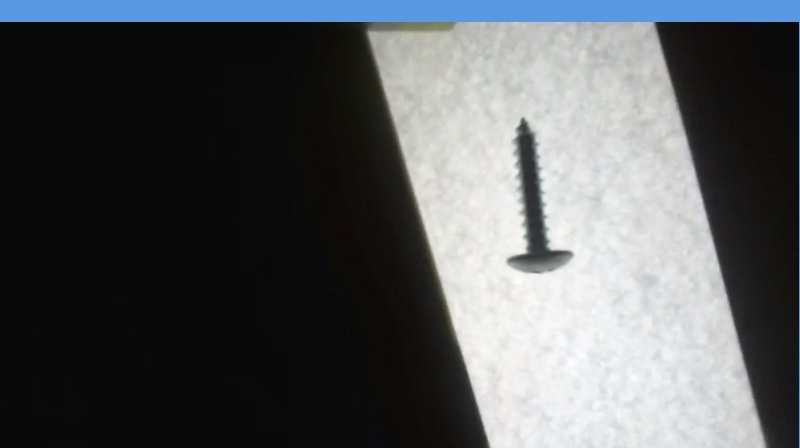S003: (501, 112, 576, 275)
